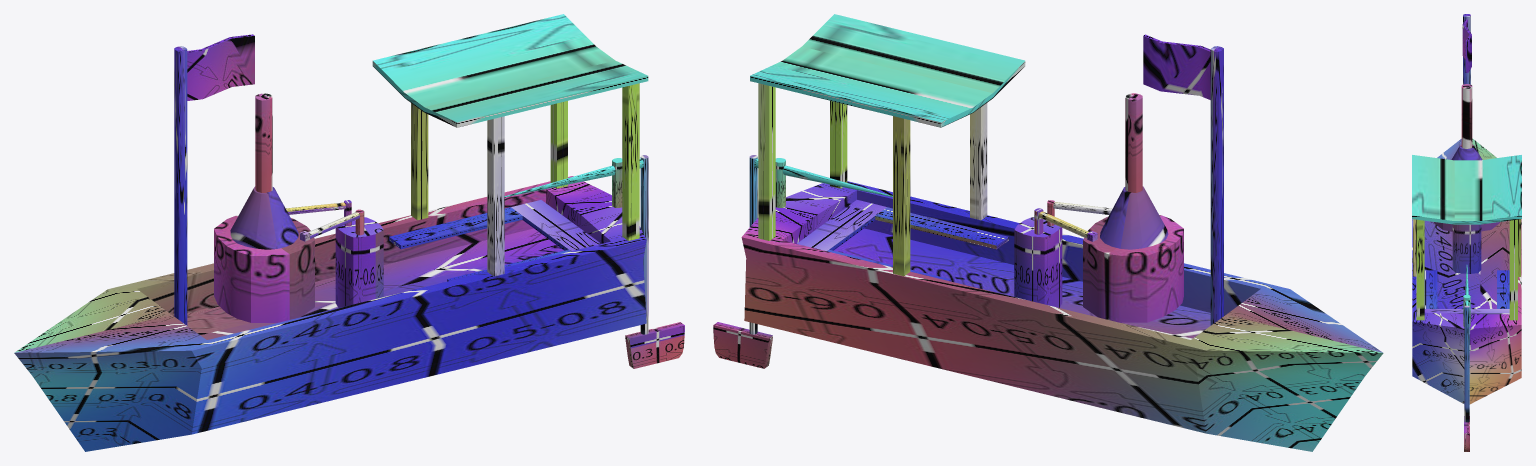
The model's file is boat.obj.
3 renders of one model, left to right at view 1: azimuth 30°, elevation 25°; view 2: azimuth 150°, elevation 25°; view 3: azimuth 270°, elevation 25°, orthographic. The views are drawn at different scales.
Parts seen in each view (by area): view 1: pCube1, pCube10, pCube6, pCube17, pCube13, pCube18, pCube7, pasted__pCube9 group2, pasted__pCube9 group, pCube11, pCube5, pasted__pCube9 group1 (+5 smaller); view 2: pCube1, pCube10, pCube6, pCube13, pCube17, pCube18, pCube7, pasted__pCube9 group1, pCube9, pCube11, pCube5, pasted__pCube9 group2 (+5 smaller); view 3: pCube1, pCube10, pCube13, pasted__pCube9 group, pCube9, pCube8, pCube4, pCube12, pasted__pCube12 group3, pCube18, pCube11, pCube7 (+6 smaller).
Boxes of the visible parts, x1,y1,x2,y2 form: pCube1: (14, 176, 646, 451); pCube10: (372, 14, 648, 127); pCube6: (214, 215, 314, 322); pCube17: (174, 46, 187, 325); pCube13: (335, 217, 383, 307); pCube18: (187, 34, 254, 100); pCube7: (230, 186, 298, 249); pasted__pCube9 group2: (487, 116, 504, 276); pasted__pCube9 group: (622, 83, 639, 240); pCube11: (511, 200, 600, 251); pCube5: (625, 322, 684, 368); pasted__pCube9 group1: (411, 103, 428, 220); pCube1: (741, 181, 1383, 451); pCube10: (750, 14, 1025, 127); pCube6: (1083, 215, 1183, 322); pCube13: (1014, 217, 1062, 307); pCube17: (1210, 46, 1223, 325); pCube18: (1143, 34, 1210, 99); pCube7: (1100, 186, 1168, 249); pasted__pCube9 group1: (893, 116, 910, 276); pCube9: (758, 83, 775, 240); pCube11: (797, 200, 886, 251); pCube5: (713, 322, 772, 368); pasted__pCube9 group2: (970, 103, 987, 220); pCube1: (1412, 138, 1521, 404); pCube10: (1412, 155, 1521, 224); pCube13: (1452, 224, 1481, 273); pasted__pCube9 group: (1416, 219, 1424, 320); pCube9: (1509, 219, 1517, 320); pCube8: (1461, 84, 1472, 148); pCube4: (1464, 305, 1469, 422); pCube12: (1424, 270, 1437, 308); pasted__pCube12 group3: (1497, 270, 1509, 308); pCube18: (1462, 19, 1471, 72); pCube11: (1424, 309, 1509, 314); pCube7: (1451, 145, 1482, 160).
Bounding box in the file's own units: 6.01 × 3.68 × 1.31.
Materials: 26 (25 with a texture image).
